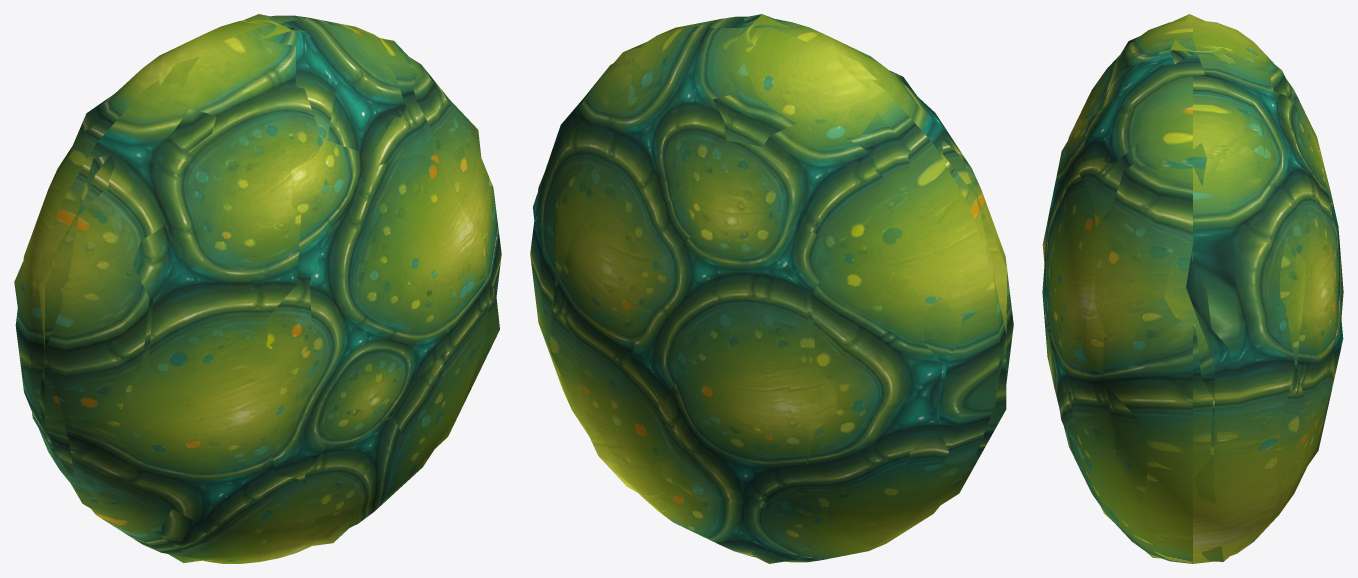
File: shell_basic.fbx
3 renders of one model, left to right at view 1: azimuth 30°, elevation 25°; view 2: azimuth 150°, elevation 25°; view 3: azimuth 270°, elevation 25°, orthographic. The views are drawn at different scales.
Visible parts, largest first — view 1: shell_basic_VIS, shell_basic_COL; view 2: shell_basic_VIS, shell_basic_COL; view 3: shell_basic_VIS, shell_basic_COL.
Boxes of the visible parts, box(x1,y1,x2,y2) form: shell_basic_VIS: box(15, 15, 501, 563); shell_basic_COL: box(14, 14, 499, 563); shell_basic_VIS: box(530, 16, 1013, 562); shell_basic_COL: box(533, 14, 1006, 563); shell_basic_VIS: box(1042, 20, 1343, 563); shell_basic_COL: box(1042, 14, 1343, 561).
Bounding box in the file's own units: 55 × 60.01 × 32.5.
